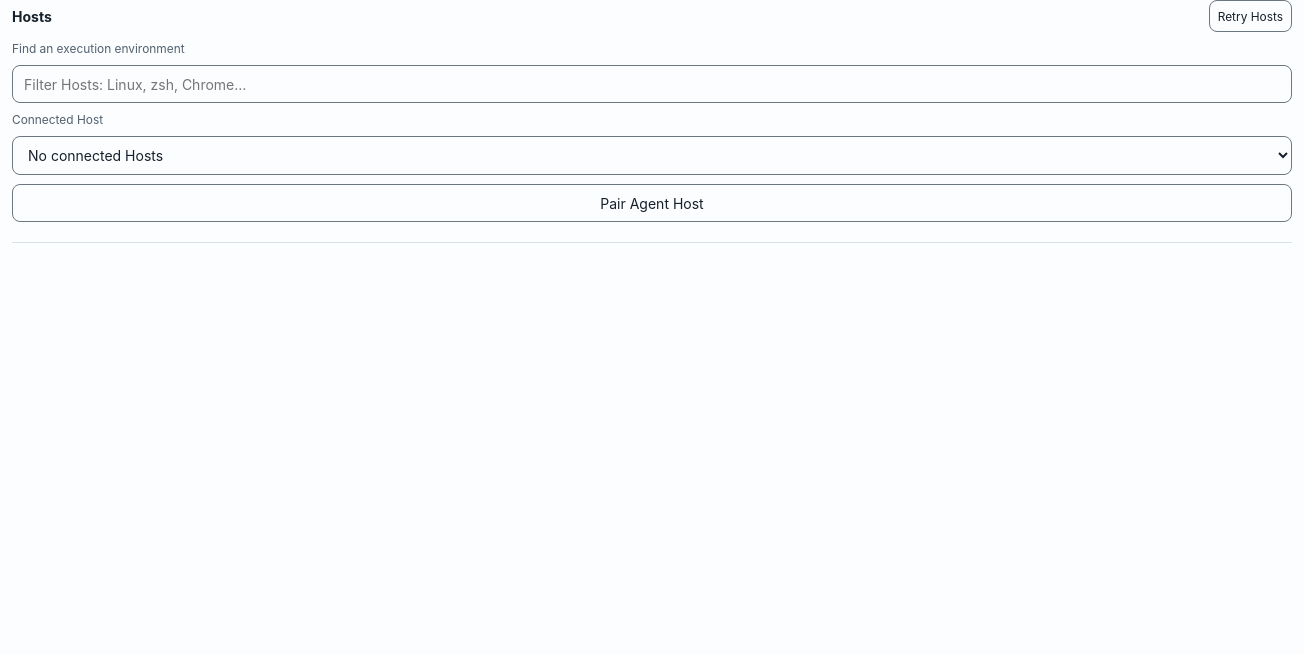
defaults to Host only and requires choosing Gateway token + CLI setup explicitly
The width and height of the screenshot is (1304, 654).
Click the button "Pair Agent Host": x=652, y=203 [12,184,1292,222]
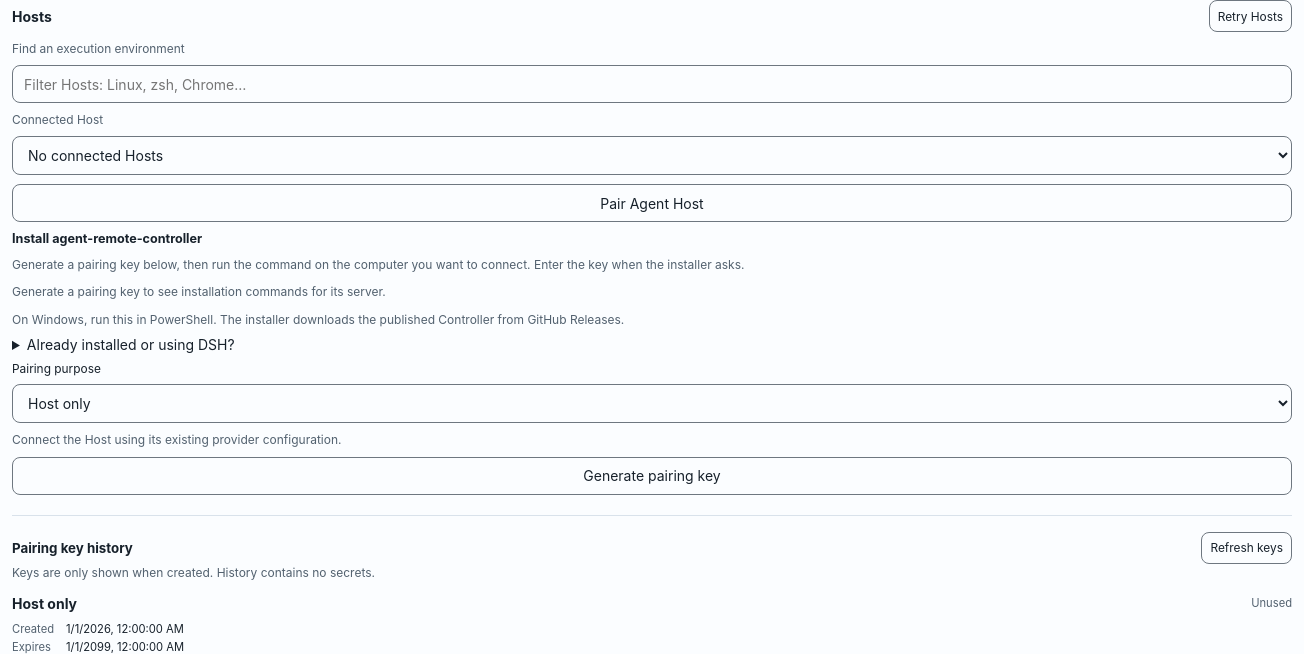
Now the dropdown labelled "Pairing purpose" shows "Host only", box [12,384,1292,423]
Click the button "Generate pairing key": x=652, y=476 [12,457,1292,495]
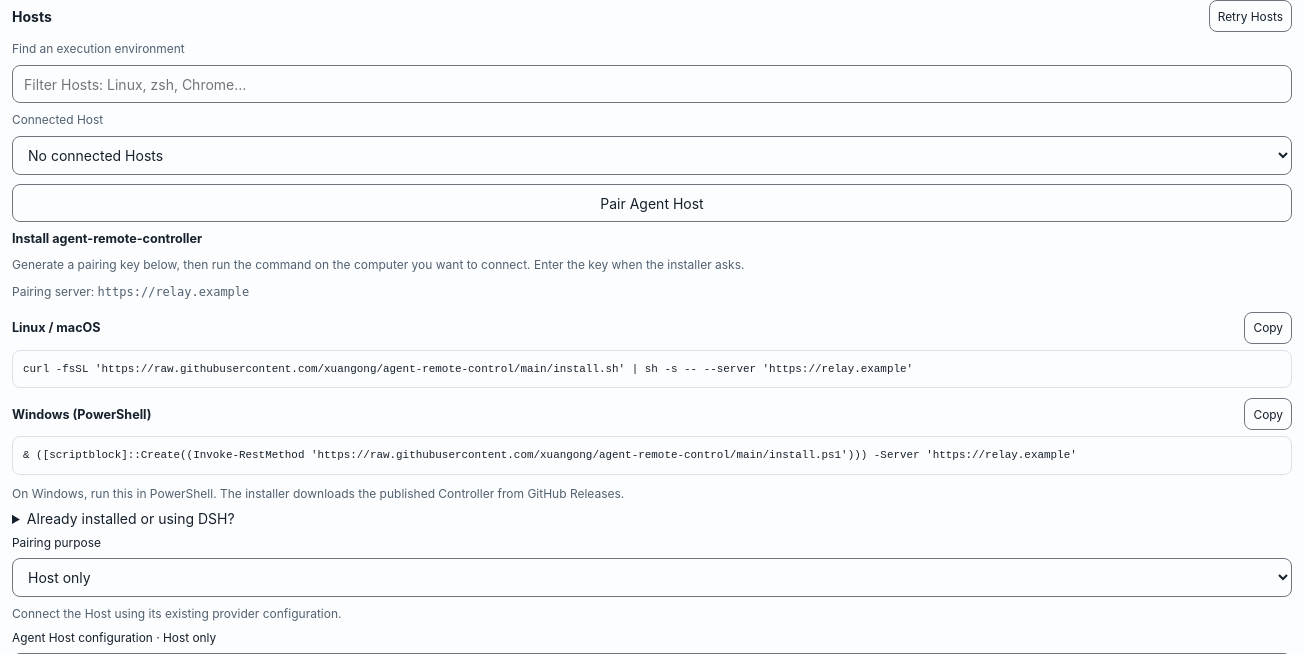
Select "Gateway token + CLI setup" in the dropdown labelled "Pairing purpose": x=652, y=577 [12,558,1292,597]
(page scrolled)
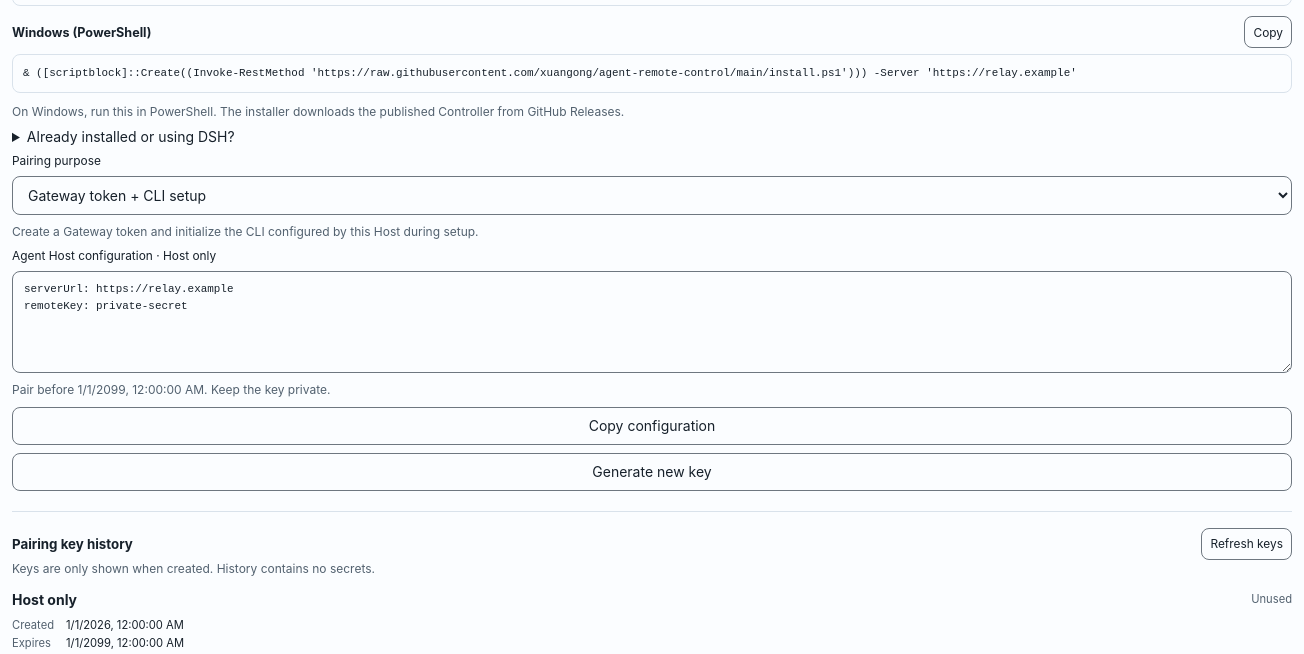
Click the button "Generate new key": x=652, y=472 [12,452,1292,490]
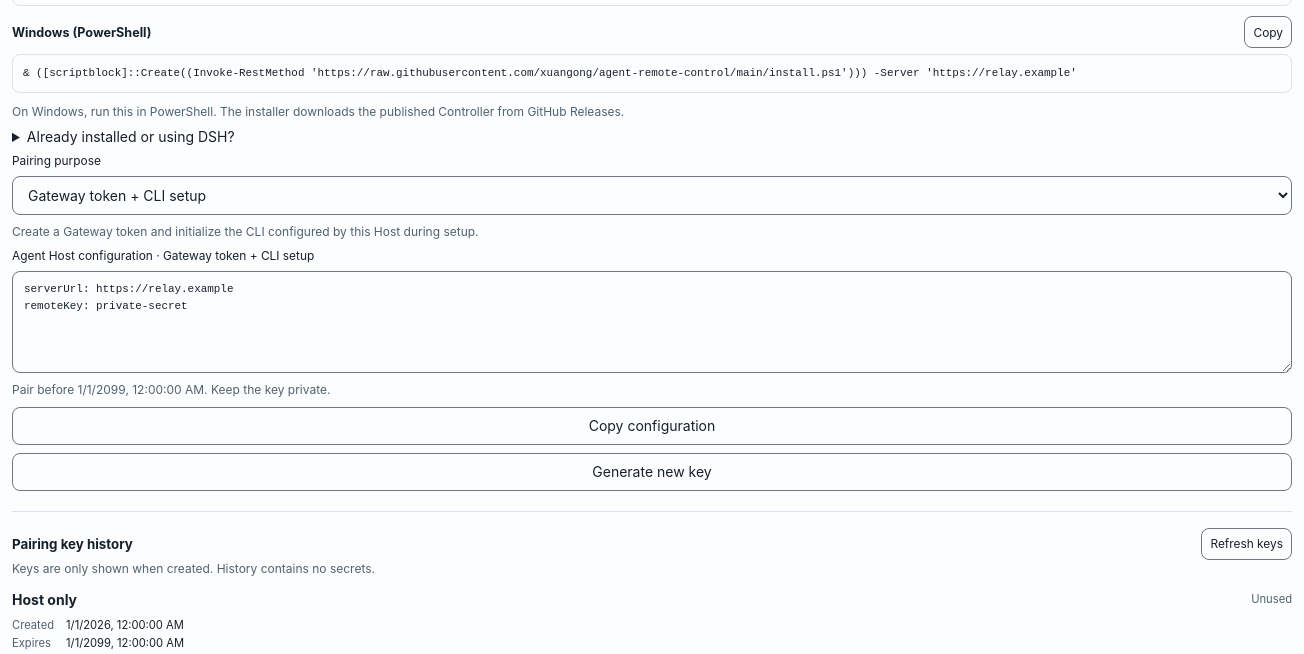
Now the text "Gateway token + CLI setup" is shown, box [153,248,314,263]
